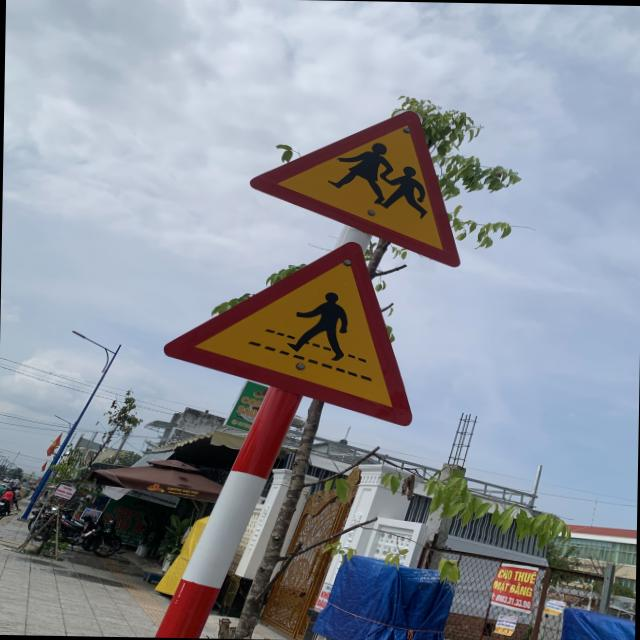Duong_Nguoi_Di_Bo_Sang_Ngang: (160, 235, 417, 425)
Vong_Xuyen: (249, 106, 465, 268)
